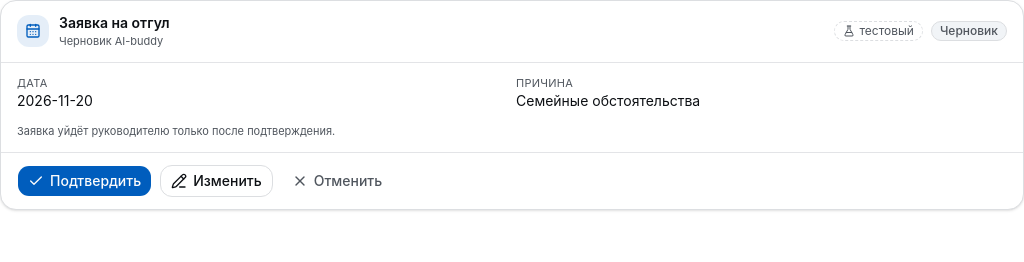
Scenario: карточка действия › показывает сохранённый результат при 409
The image size is (1024, 262).
Click the button "Подтвердить" at x=85, y=180, box x1=17 y1=164 x2=152 y2=196
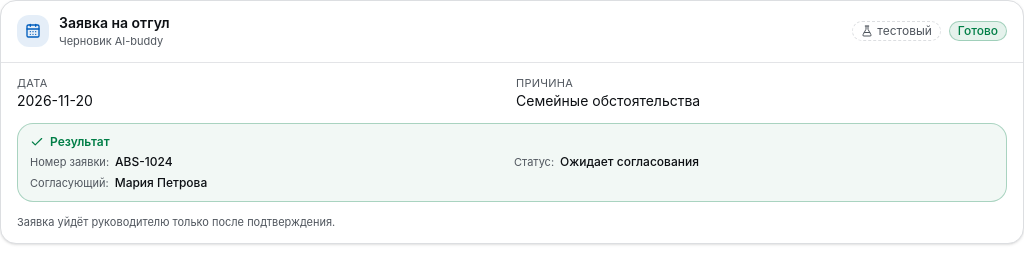
Expected: the text "ABS-1024" is shown, x1=115 y1=154 x2=172 y2=170
Expected: the button "Подтвердить" is gone
